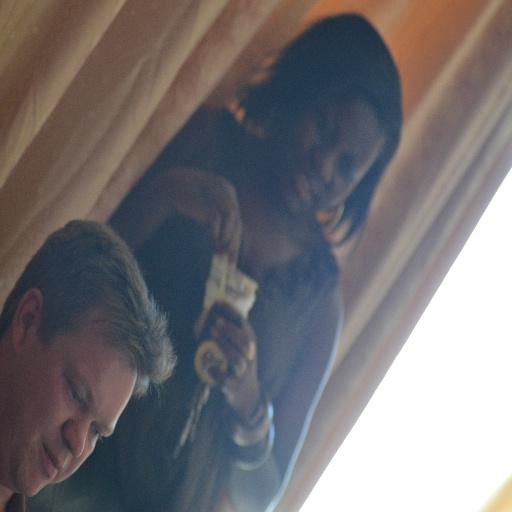hand: (190, 297, 260, 414), (174, 171, 244, 270)
